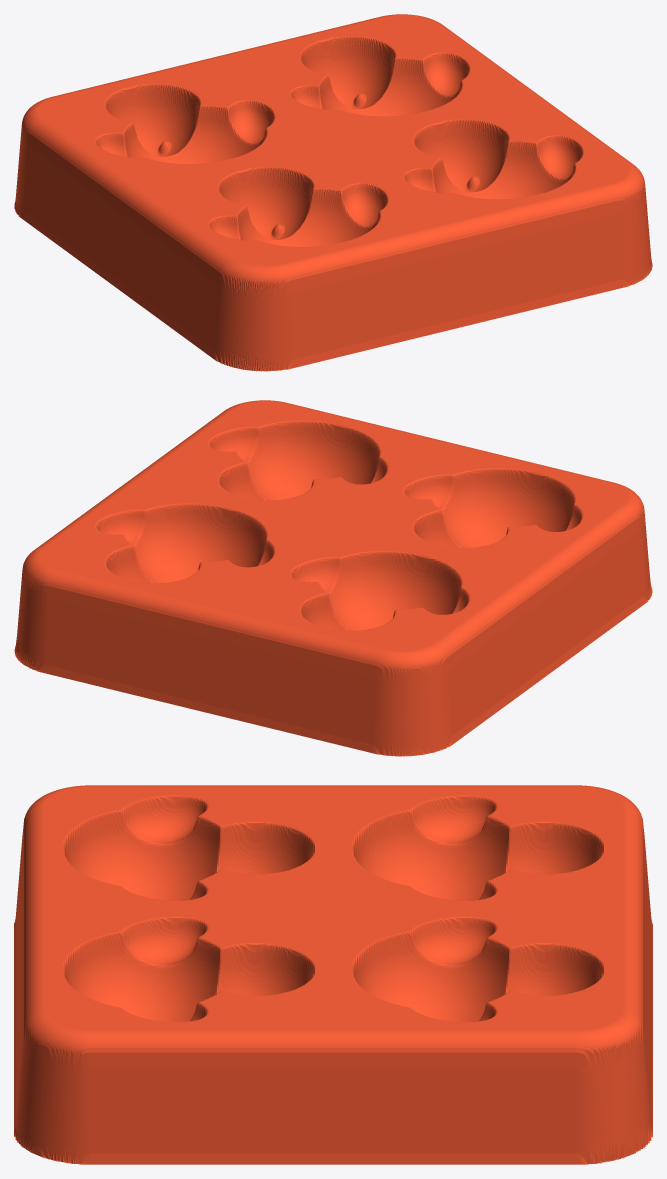
Rendered from mold.glb.
3 renders of one model, top to bottom at view 1: azimuth 30°, elevation 25°; view 2: azimuth 150°, elevation 25°; view 3: azimuth 270°, elevation 25°, orthographic. The views are drawn at different scales.
Visible parts, largest first — view 1: geometry_0; view 2: geometry_0; view 3: geometry_0.
Part boxes in pixels (box(x1,y1,x2,y2)): geometry_0: box(14, 14, 652, 371); geometry_0: box(14, 400, 652, 756); geometry_0: box(14, 785, 652, 1164).
Size of the model in its own units: 0.0752 by 0.0159 by 0.0756.
